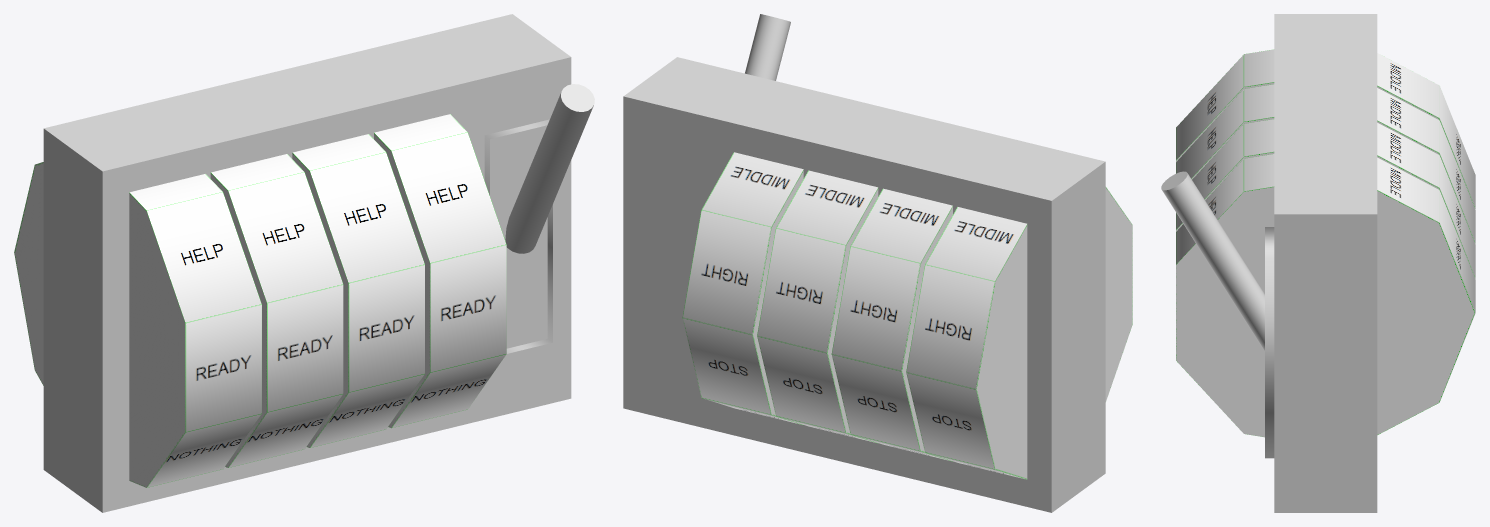
Rendered from SlotsWithTextures.FBX.
The picture shows the model from 3 angles, left to right: view 1: azimuth 30°, elevation 25°; view 2: azimuth 150°, elevation 25°; view 3: azimuth 270°, elevation 25°; orthographic projection. The views are drawn at different scales.
Parts seen in each view (by area): view 1: Box019, Cylinder010, Cylinder011, Cylinder012, Cylinder013, Cylinder014, Tube007; view 2: Box019, Cylinder010, Cylinder012, Cylinder013, Cylinder011, Cylinder014; view 3: Box019, Cylinder013, Cylinder010, Cylinder011, Cylinder012, Cylinder014, Tube007.
Boxes of the visible parts, x1,y1,x2,y2 form: Box019: (43, 14, 571, 512); Cylinder010: (14, 162, 261, 487); Cylinder011: (210, 154, 343, 467); Cylinder012: (292, 134, 424, 447); Cylinder013: (374, 114, 506, 428); Cylinder014: (505, 84, 594, 253); Tube007: (484, 119, 562, 366); Box019: (623, 57, 1105, 512); Cylinder010: (906, 187, 1132, 479); Cylinder012: (757, 170, 878, 443); Cylinder013: (682, 152, 803, 424); Cylinder011: (831, 188, 952, 461); Cylinder014: (745, 14, 790, 80); Box019: (1274, 14, 1377, 512); Cylinder013: (1176, 154, 1475, 437); Cylinder010: (1176, 49, 1475, 208); Cylinder011: (1176, 84, 1475, 243); Cylinder012: (1176, 119, 1475, 278); Cylinder014: (1161, 171, 1264, 350); Tube007: (1265, 227, 1274, 458).
Bounding box in the file's own units: 45.97 × 33.98 × 30.53.
1 material, 1 textured.
